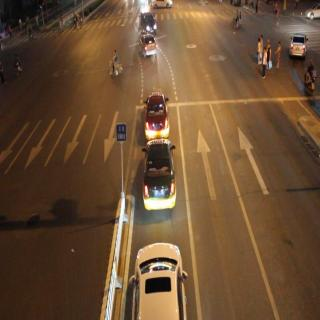Car: (134, 242, 191, 320), (139, 140, 184, 211), (145, 88, 175, 142), (138, 5, 166, 37), (137, 33, 163, 61), (291, 32, 310, 61)
